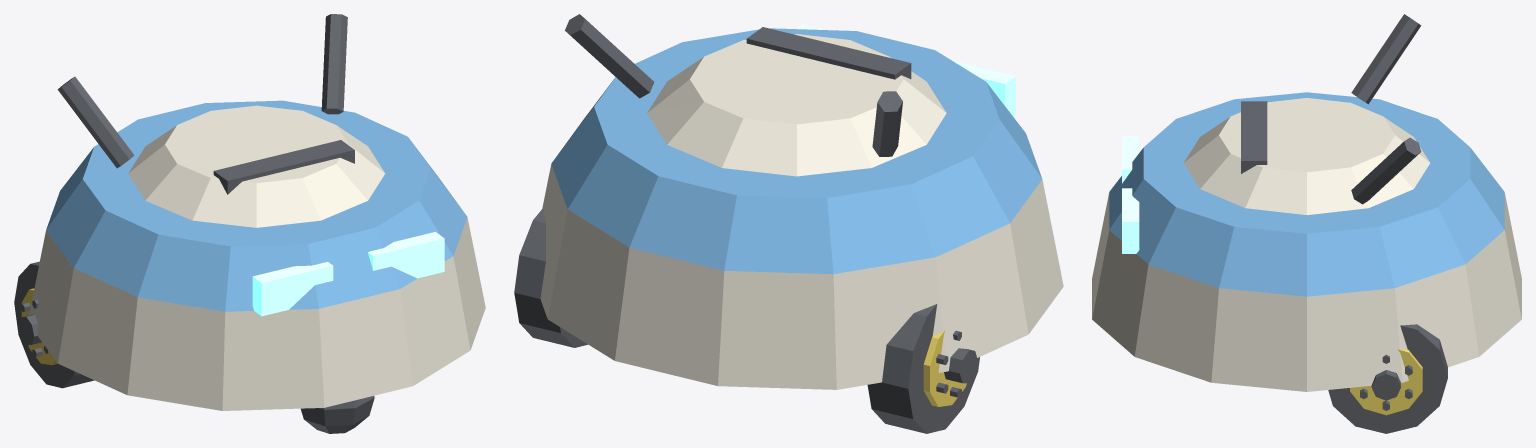
The model's file is aspiradoraRobot.fbx.
The picture shows the model from 3 angles, left to right: view 1: azimuth 30°, elevation 25°; view 2: azimuth 150°, elevation 25°; view 3: azimuth 270°, elevation 25°; orthographic projection. The views are drawn at different scales.
Parts seen in each view (by area): view 1: robot-mower, wheel-drive-left/dark, wheel-drive-left/yellow; view 2: robot-mower, wheel-drive-left/dark, wheel-drive-right/dark, wheel-drive-left/yellow; view 3: robot-mower, wheel-drive-right/dark, wheel-drive-right/yellow.
Part boxes in pixels (<box>): robot-mower: <box>29,14,485,433</box>; wheel-drive-left/dark: <box>14,261,94,388</box>; wheel-drive-left/yellow: <box>21,288,57,365</box>; robot-mower: <box>540,14,1063,389</box>; wheel-drive-left/dark: <box>867,304,979,433</box>; wheel-drive-right/dark: <box>514,208,587,347</box>; wheel-drive-left/yellow: <box>923,330,966,406</box>; robot-mower: <box>1092,14,1521,391</box>; wheel-drive-right/dark: <box>1328,324,1447,433</box>; wheel-drive-right/yellow: <box>1350,349,1422,415</box>.
Size of the model in its own units: 50 by 34.7 by 48.75.
